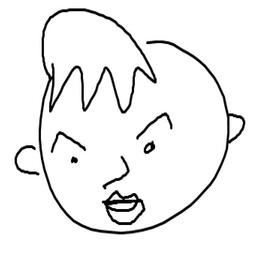ear: (10, 142, 43, 179), (222, 112, 246, 154)
frowning_eyebrow: (128, 109, 176, 144), (46, 126, 89, 153)
open_mouth: (101, 188, 149, 229)
pointy_nose: (97, 152, 133, 188)
small_eye: (140, 137, 160, 157), (67, 153, 81, 167)
